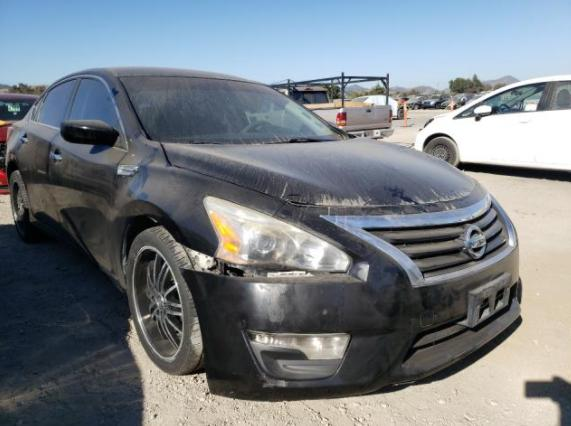Back-door: (15, 77, 79, 231)
Back-wheel: (9, 169, 43, 242)
Back-window: (37, 80, 75, 127)
Fender: (112, 139, 286, 279)
Front-bumper: (181, 182, 523, 401)
Front-door: (47, 76, 128, 268)
Front-wheel: (126, 226, 205, 373)
Front-window: (70, 80, 119, 125)
Grille: (370, 206, 509, 278)
Headlight: (202, 196, 352, 272)
Hood: (161, 137, 477, 207)
Mirror: (61, 120, 118, 143)
Quarter-panel: (4, 118, 26, 176)
Rocker-panel: (45, 223, 124, 293)
Roof: (64, 66, 267, 86)
Tail-light: (6, 125, 13, 145)
Windshield: (119, 75, 353, 143)
